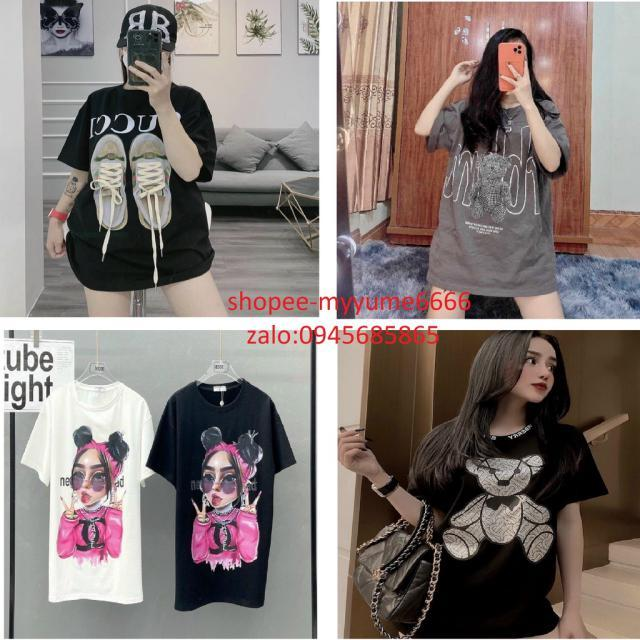Shirt: (396, 412, 614, 638), (54, 77, 230, 298), (148, 372, 301, 616), (416, 81, 577, 301), (17, 380, 166, 608)
